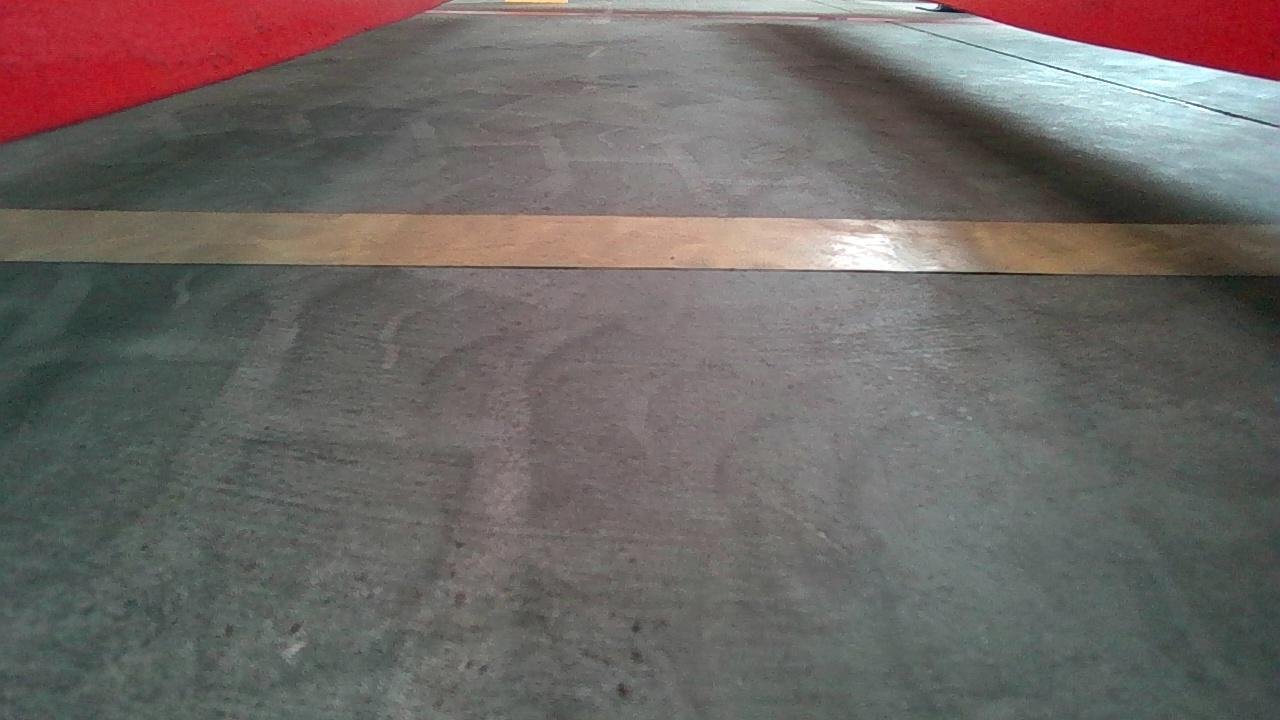yellow_line: (0, 204, 1280, 274)
